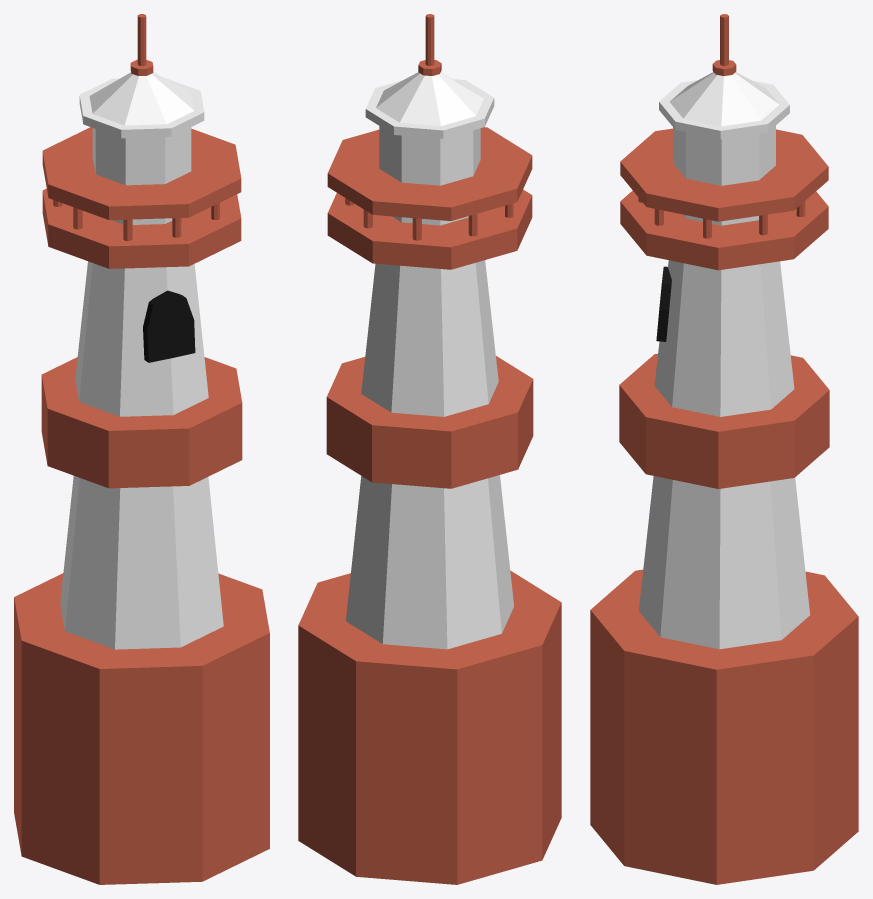
File: Lighthouse_Low.fbx
3 views of the same model, side by side, from view 1: azimuth 30°, elevation 25°; view 2: azimuth 150°, elevation 25°; view 3: azimuth 270°, elevation 25° (orthographic).
Parts seen in each view (by area): view 1: Lighthouse_Low; view 2: Lighthouse_Low; view 3: Lighthouse_Low.
Part boxes in pixels (x1,y1,x2,y2): Lighthouse_Low: (14, 14, 269, 884); Lighthouse_Low: (298, 14, 561, 884); Lighthouse_Low: (590, 14, 858, 884).
Size of the model in its own units: 35.56 by 119 by 35.56.
